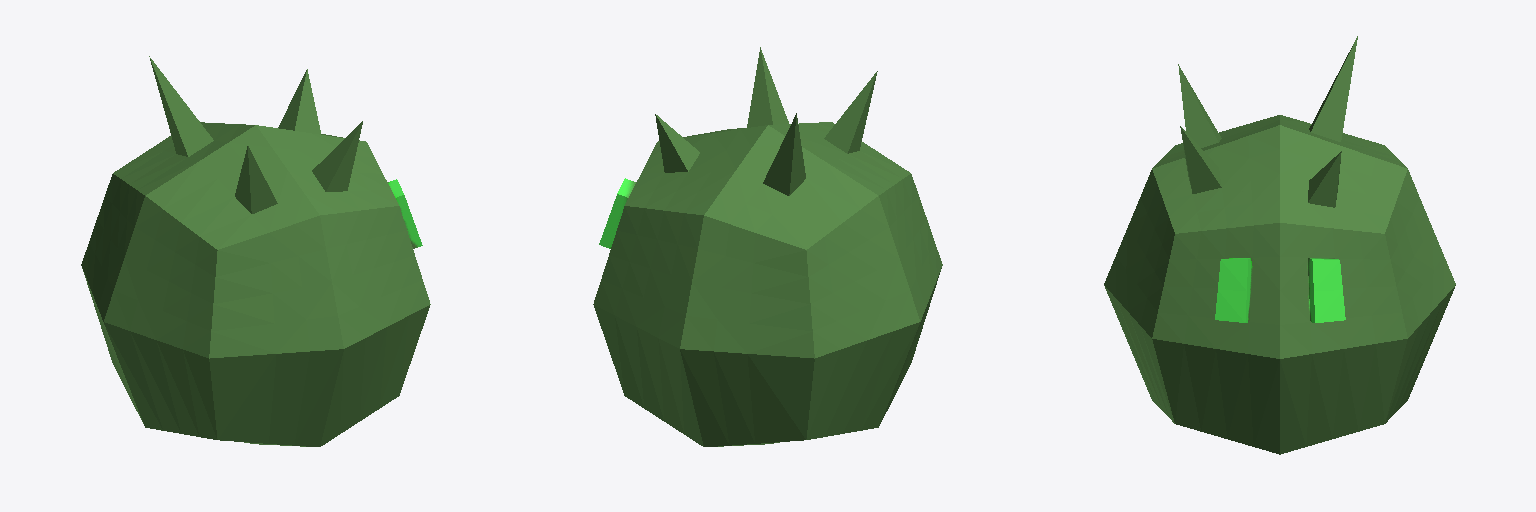
The picture shows the model from 3 angles: view 1: azimuth 30°, elevation 25°; view 2: azimuth 150°, elevation 25°; view 3: azimuth 270°, elevation 25°; orthographic projection.
Parts seen in each view (by area): view 1: Cube; view 2: Cube; view 3: Cube.
Boxes of the visible parts, x1=… form: Cube: x1=81, y1=56, x2=430, y2=446; Cube: x1=593, y1=47, x2=942, y2=446; Cube: x1=1104, y1=36, x2=1455, y2=454.
Size of the model in its own units: 0.8395 by 0.9902 by 0.8395.
Materials: 1 (1 with a texture image).